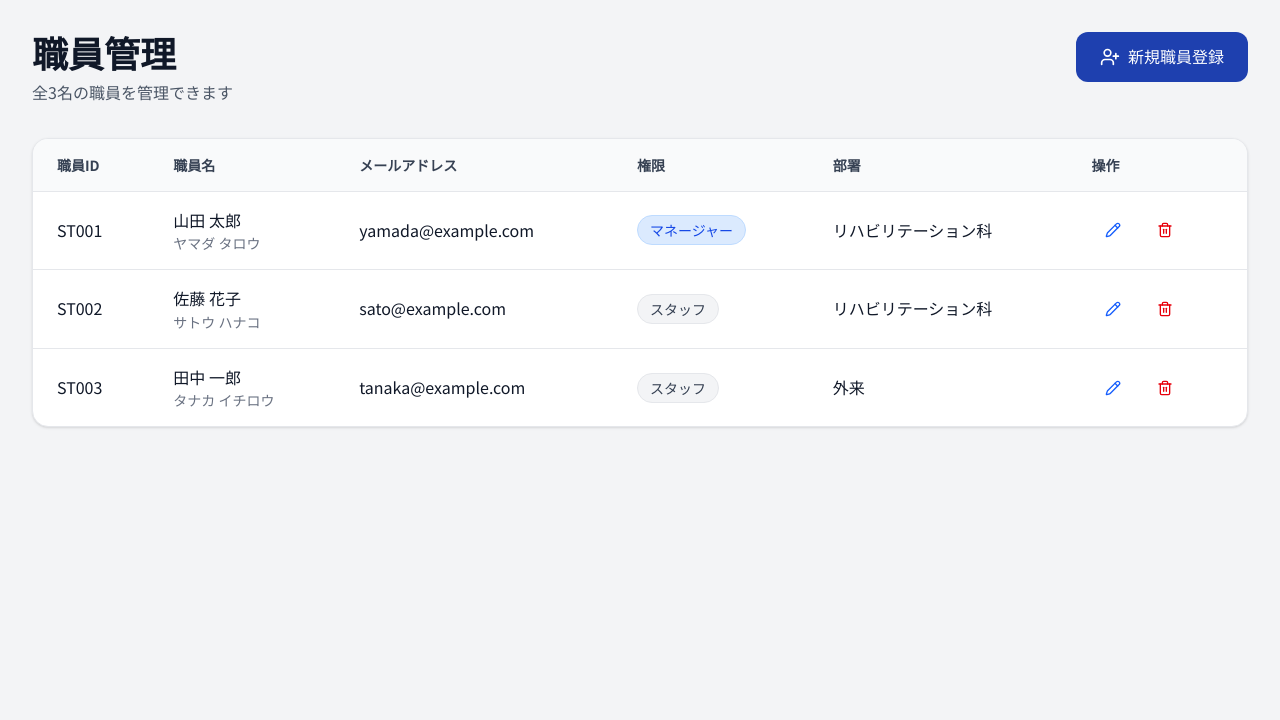
it: S-08 StaffManagement › create staff dialog › should open dialog when create button is clicked
The image size is (1280, 720).
Click the button "新規職員登録". click: (1162, 57)
box: x1=1076 y1=32 x2=1248 y2=82
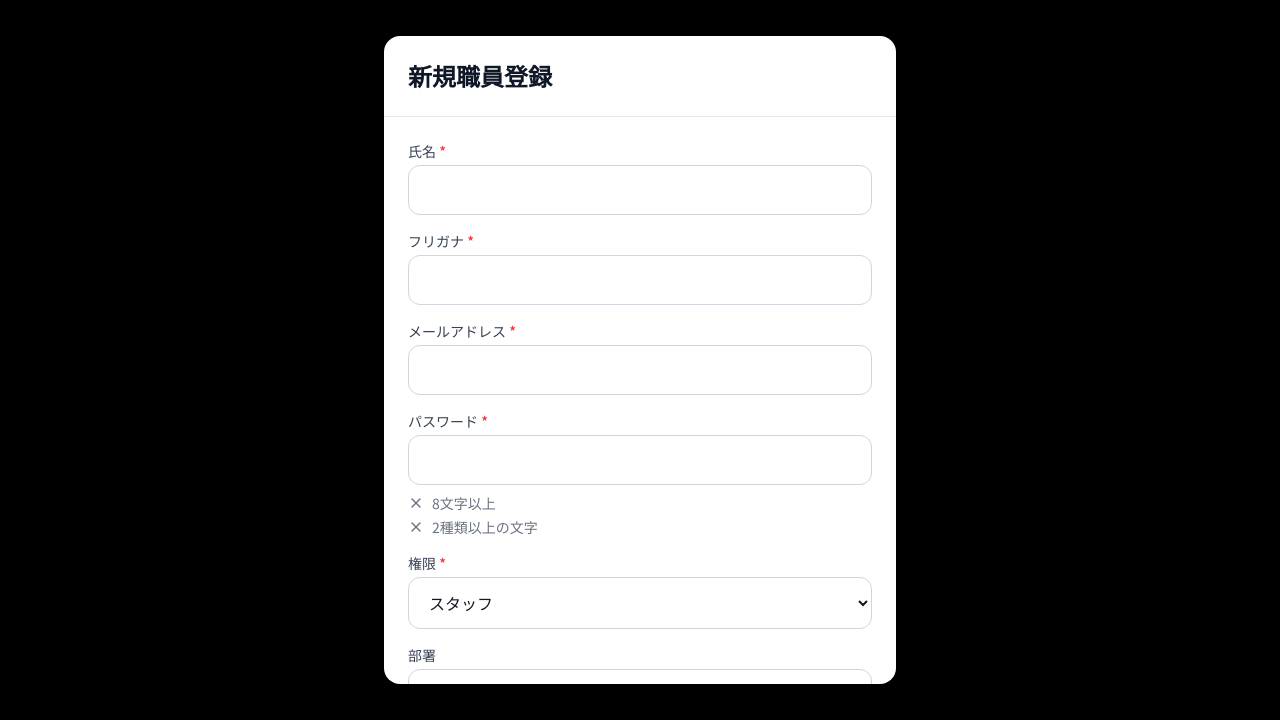
Expected: the dialog is shown
Expected: the heading "新規職員登録" is shown, x1=408 y1=58 x2=552 y2=93
